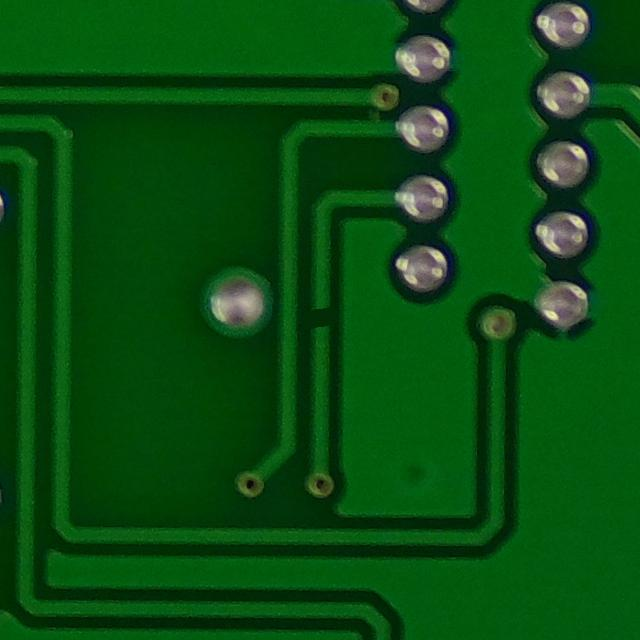open_circuit: (303, 301, 338, 339)
